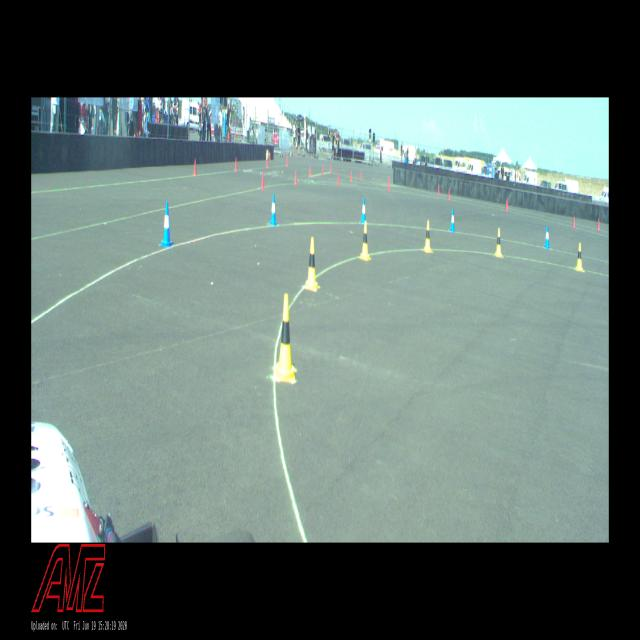blue_cone: (160, 201, 174, 247), (267, 192, 279, 226), (359, 197, 366, 224), (449, 208, 456, 233), (544, 224, 550, 250)
unknown_cone: (261, 170, 265, 190), (193, 158, 197, 176), (294, 169, 298, 185), (336, 172, 340, 186), (234, 157, 238, 171), (572, 215, 576, 228), (597, 218, 601, 231), (308, 165, 312, 177), (266, 157, 269, 168), (329, 163, 332, 174), (359, 170, 362, 181), (350, 170, 352, 182), (448, 188, 450, 200), (438, 184, 440, 196), (506, 198, 508, 210), (388, 179, 390, 191), (286, 155, 288, 166), (322, 164, 324, 175), (387, 176, 389, 186)
yellow_cone: (272, 293, 296, 383), (303, 236, 320, 292), (359, 222, 371, 260), (422, 220, 434, 252), (574, 242, 585, 273), (493, 228, 504, 258)
